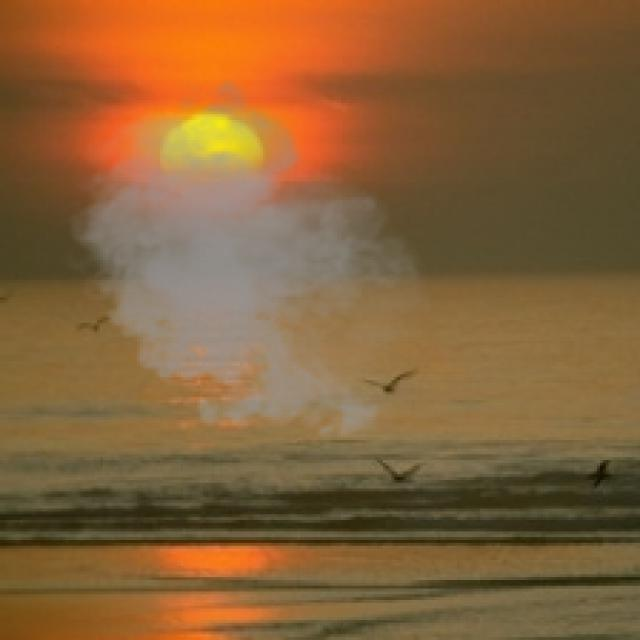Smoke: (57, 77, 443, 449)
